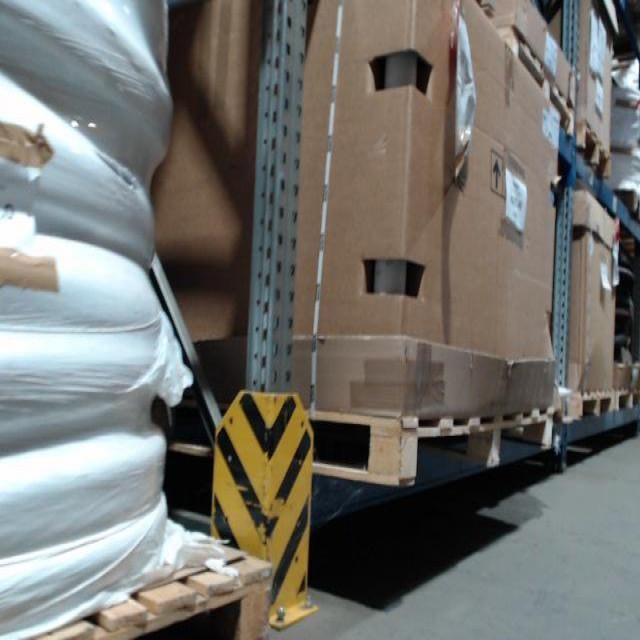pallet: (174, 397, 563, 492), (2, 520, 274, 636), (490, 18, 575, 141), (552, 380, 613, 424), (581, 114, 616, 181), (612, 177, 640, 235), (613, 384, 640, 423)
